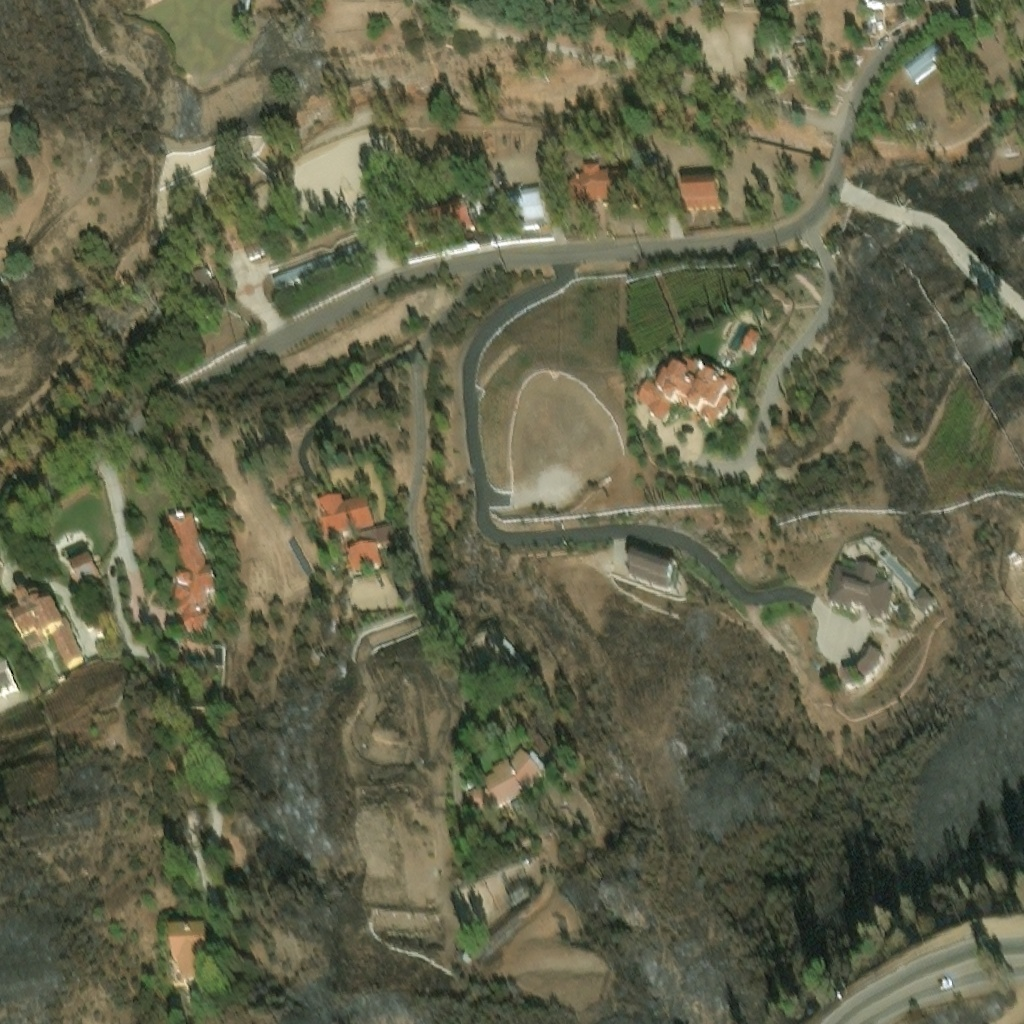0 no-damage: (634, 354, 738, 427), (166, 508, 216, 632), (3, 585, 80, 657), (268, 235, 366, 285), (401, 191, 475, 246), (469, 751, 543, 806), (826, 564, 900, 618), (560, 160, 632, 208), (316, 494, 374, 537), (167, 919, 207, 977), (183, 263, 225, 307), (627, 550, 674, 587), (506, 182, 545, 225), (902, 42, 943, 81), (343, 539, 384, 573), (841, 644, 879, 680), (680, 174, 720, 207), (783, 42, 813, 79), (631, 543, 676, 567), (67, 549, 99, 581), (236, 223, 263, 257), (285, 531, 309, 567), (839, 640, 868, 668), (504, 877, 534, 900), (360, 523, 396, 542), (355, 197, 373, 230), (500, 871, 530, 889), (912, 586, 936, 608), (743, 331, 762, 353), (0, 657, 14, 685), (529, 754, 548, 774), (185, 806, 195, 837), (865, 0, 907, 6), (840, 559, 859, 572), (876, 570, 889, 581), (488, 168, 499, 181)
4 un-classified: (492, 113, 532, 131), (456, 110, 482, 124), (235, 0, 251, 17)
